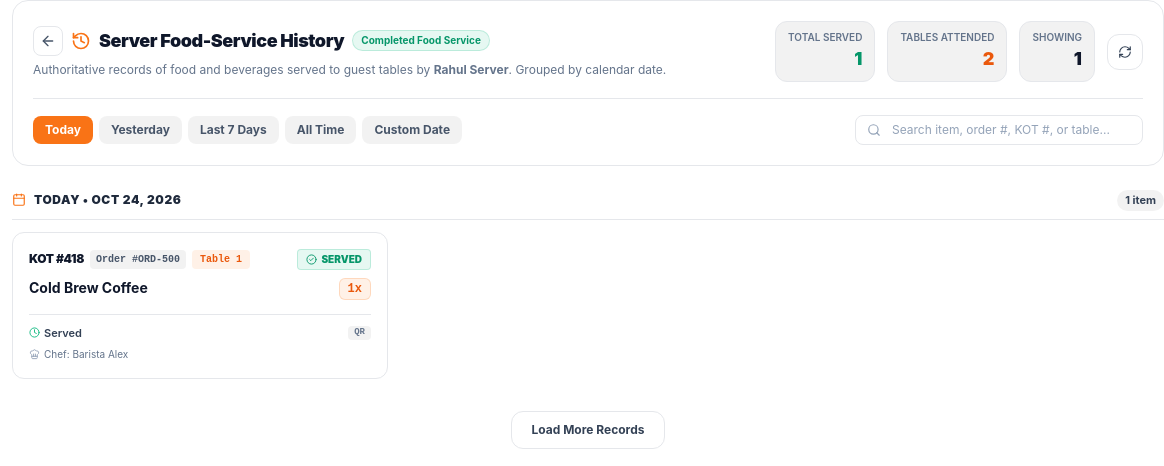
Test: Server Station — History Suite › 4. Filters date-wise: Yesterday filter loads yesterday's completed items
Expected: the text "Cold Brew Coffee" is shown, [29,278,148,297]
Click the button with test id "filter-yesterday": (140, 130) [99,116,182,144]
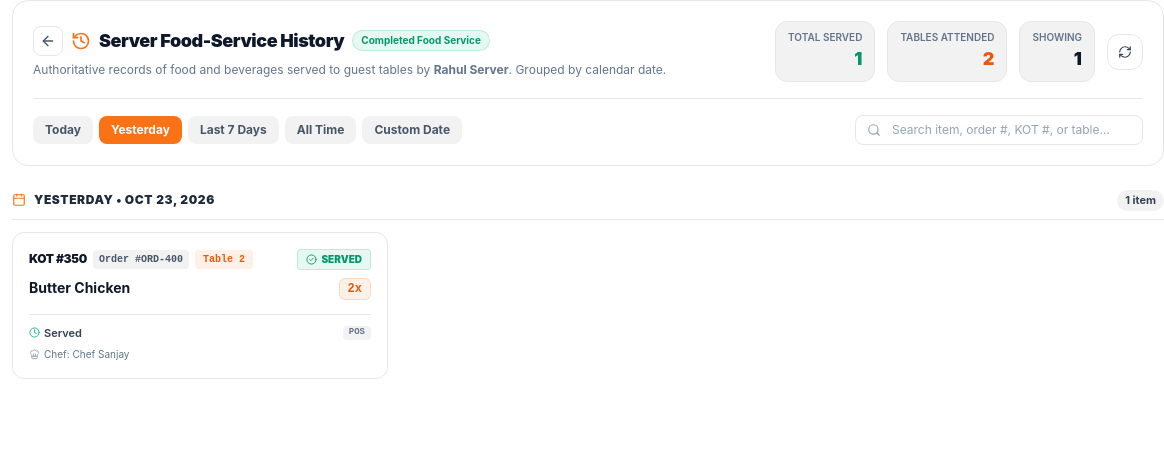
Expected: the text "Butter Chicken" is shown, [29,278,130,297]
Expected: the text "Table 2" is shown, [195,250,253,268]
Expected: the text "KOT #350" is shown, [29,251,87,267]
